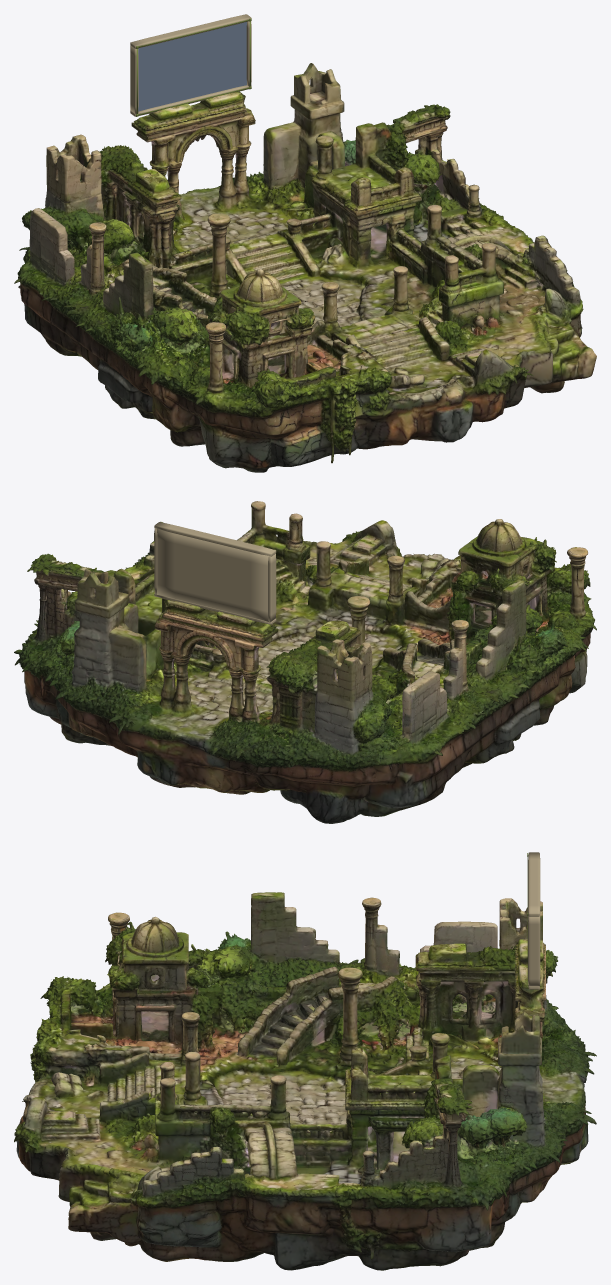
Rendered from kfb-meshy-verdant-ruins.screen-a.v1.glb.
3 views of the same model, one above another, from view 1: azimuth 30°, elevation 25°; view 2: azimuth 150°, elevation 25°; view 3: azimuth 270°, elevation 25° (orthographic). The views are drawn at different scales.
Parts seen in each view (by area): view 1: verdant_ruins, kfb_screen_slot, kfb_screen_frame; view 2: verdant_ruins, kfb_screen_frame; view 3: verdant_ruins, kfb_screen_frame.
Part boxes in pixels (x1,y1,x2,y2): verdant_ruins: (14, 63, 596, 472); kfb_screen_slot: (138, 22, 246, 111); kfb_screen_frame: (130, 14, 251, 116); verdant_ruins: (14, 501, 596, 823); kfb_screen_frame: (154, 521, 276, 624); verdant_ruins: (14, 892, 596, 1270); kfb_screen_frame: (527, 852, 540, 989).
Size of the model in its own units: 1.79 by 1.03 by 1.89.
4 materials, 1 textured.
